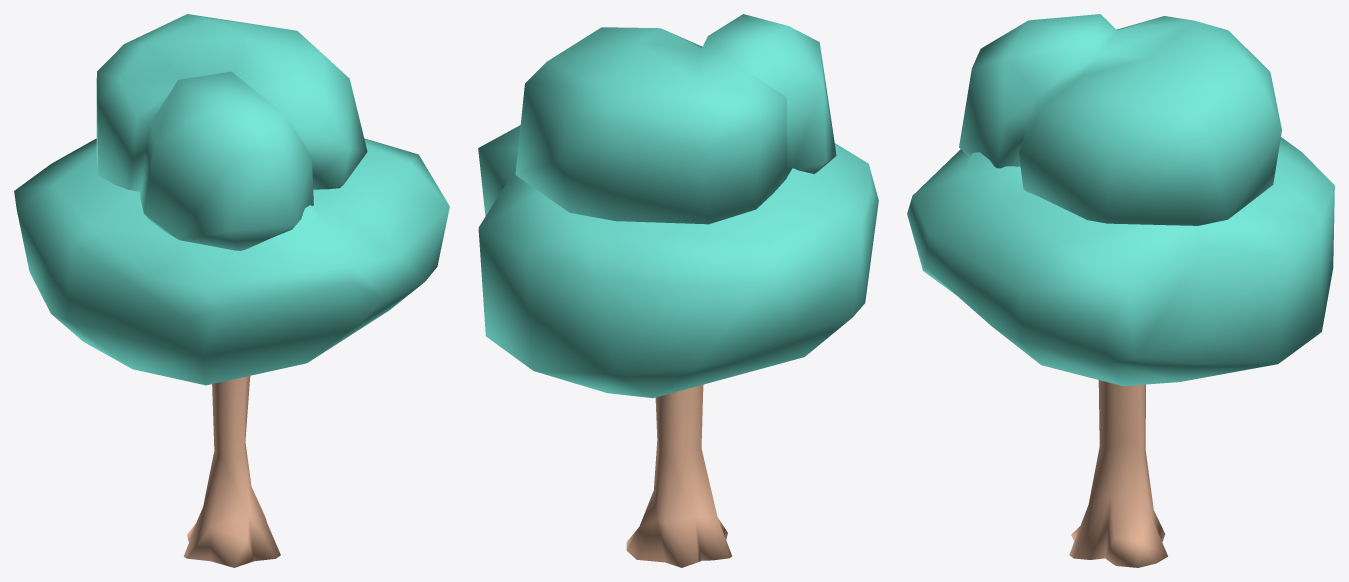
The model's file is Tree_01.fbx.
The picture shows the model from 3 angles, left to right: view 1: azimuth 30°, elevation 25°; view 2: azimuth 150°, elevation 25°; view 3: azimuth 270°, elevation 25°; orthographic projection. The views are drawn at different scales.
Parts seen in each view (by area): view 1: Tree_01; view 2: Tree_01; view 3: Tree_01.
Boxes of the visible parts, x1,y1,x2,y2 form: Tree_01: (14,14,449,567); Tree_01: (478,14,878,567); Tree_01: (907,14,1334,567).
Bounding box in the file's own units: 90.08 × 114 × 87.32.
